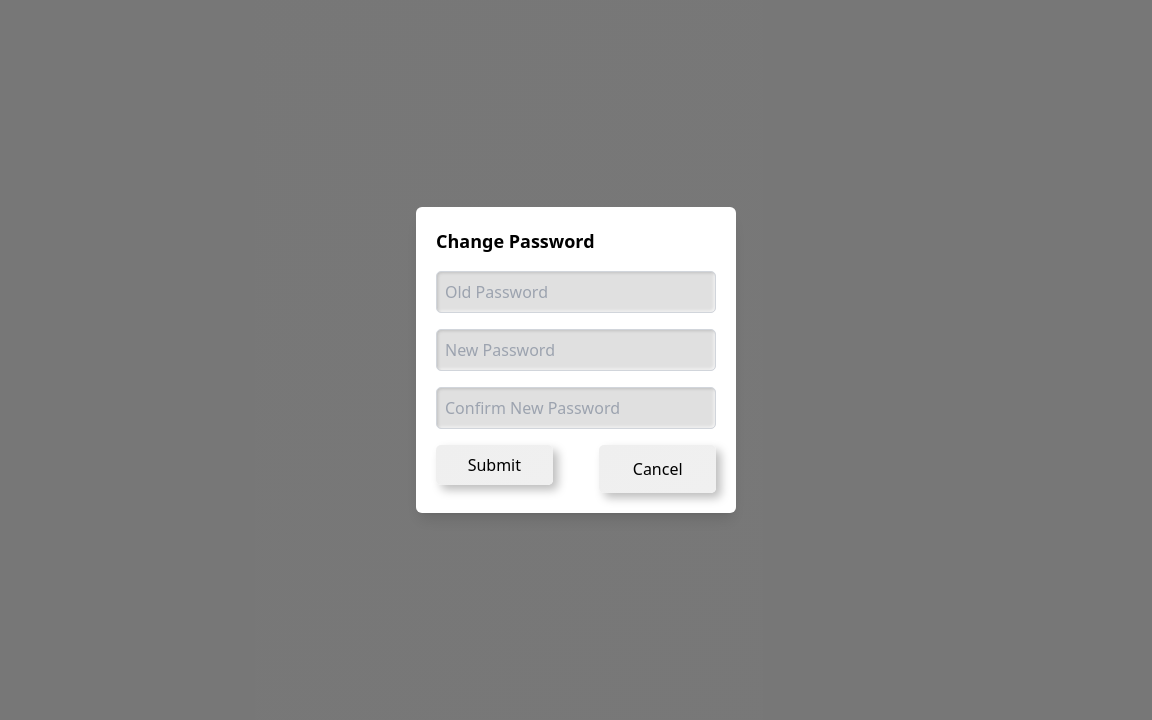
Test: PasswordResetModal › shows an error when the new passwords do not match
The image size is (1152, 720).
Type "old-pass" into the password field with placeholder "Old Password" at point(576, 292), box [436,271,716,313]
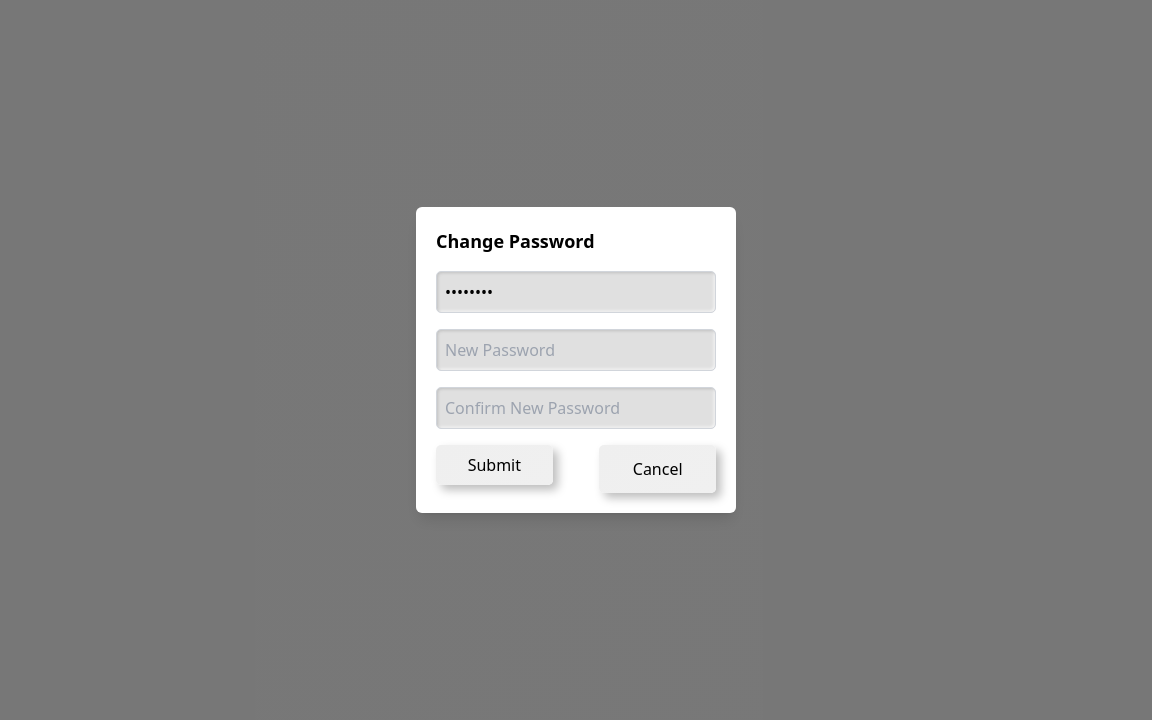
Type "new-pass" into the password field with placeholder "New Password" at point(576, 350), box [436,329,716,371]
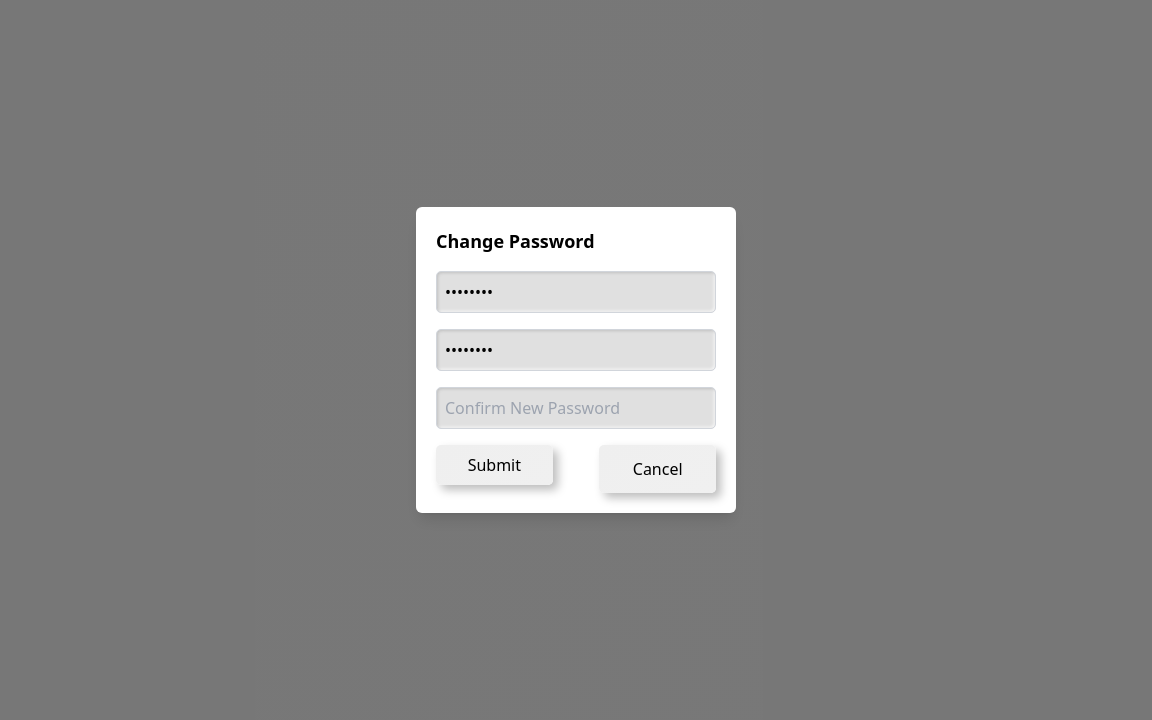
Type "different-pass" into the password field with placeholder "Confirm New Password" at point(576, 408), box [436,387,716,429]
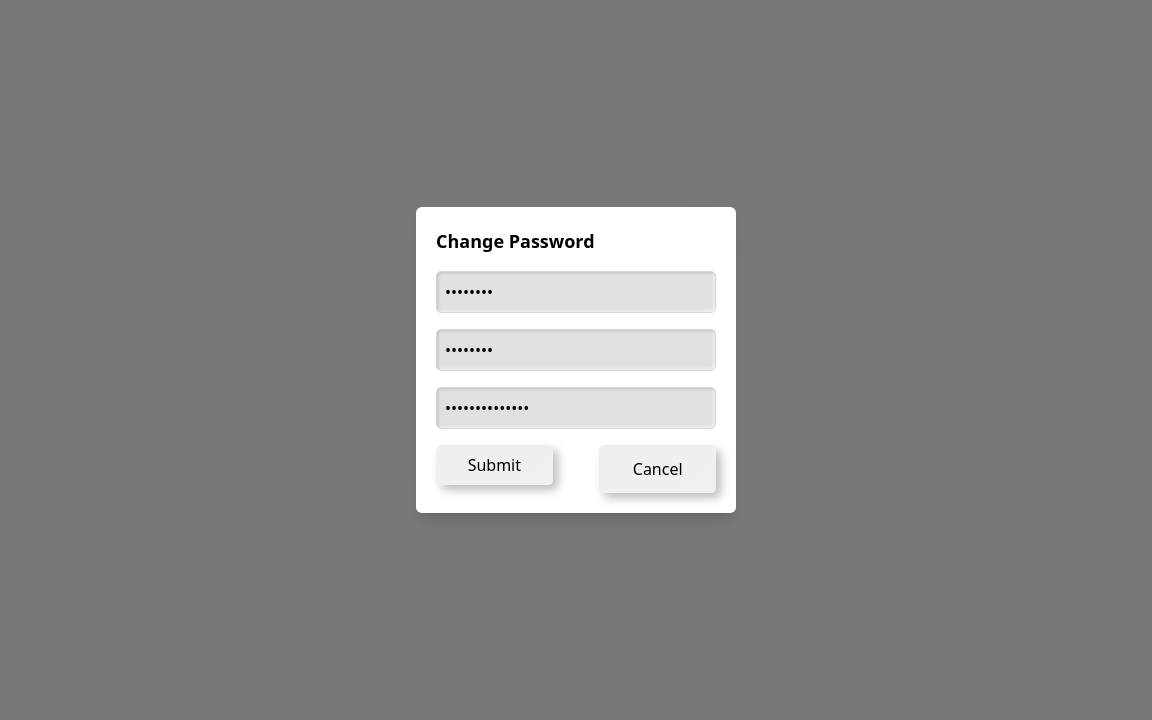
Click the button "Submit" at point(494, 465), box [436,445,553,485]
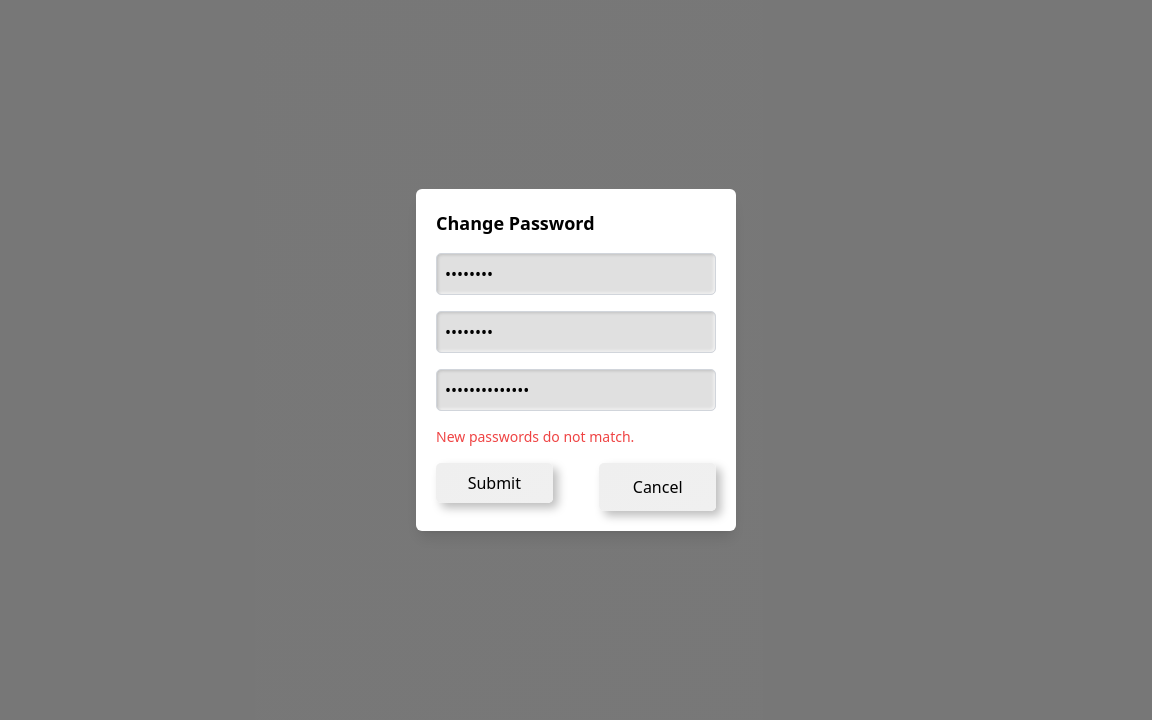
Expected: the text "New passwords do not match." is shown, [436,427,634,446]
